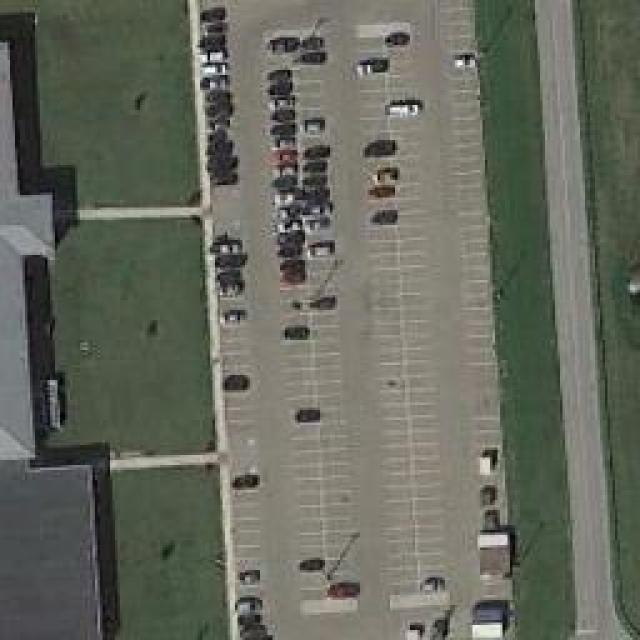Parking: (198, 0, 486, 640)
